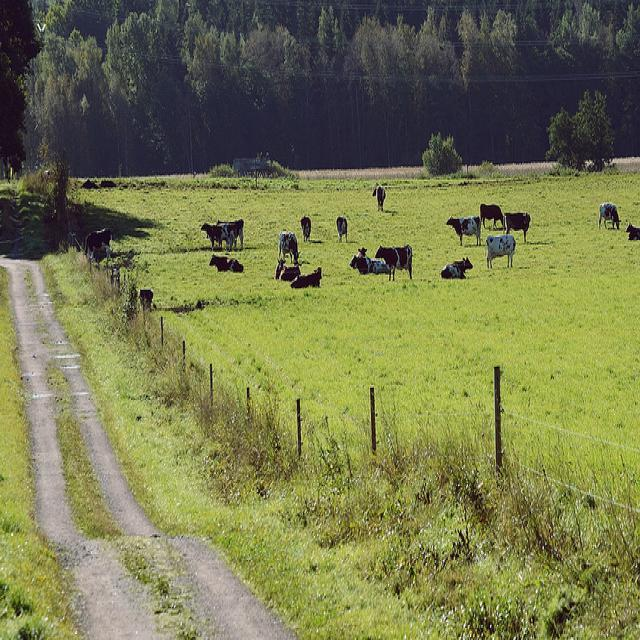cow: (198, 197, 503, 289), (373, 242, 411, 278), (443, 213, 480, 244), (485, 233, 515, 266), (501, 210, 530, 240), (439, 255, 472, 278), (277, 231, 299, 261), (597, 201, 620, 228), (348, 252, 377, 273), (370, 184, 384, 210), (137, 287, 153, 308), (624, 219, 639, 240), (335, 215, 346, 242), (368, 258, 387, 273)
